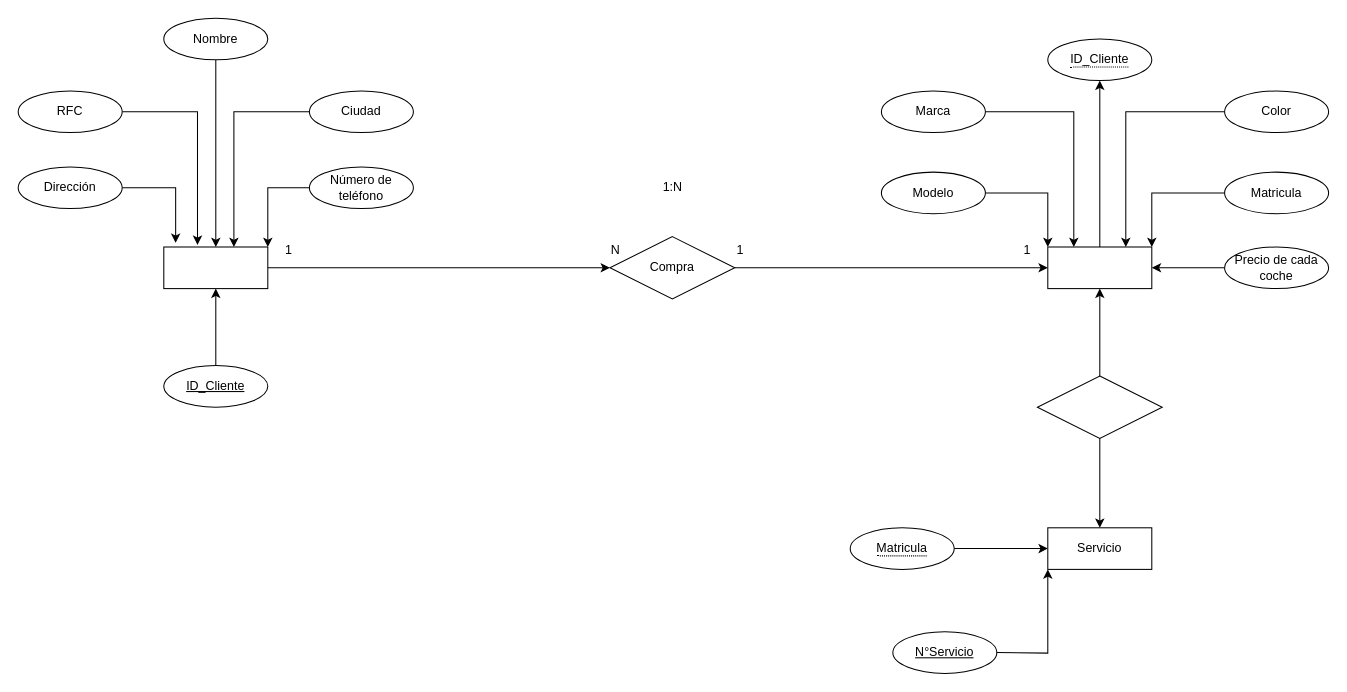
Image size: 1347x692. Some labels were removed from this diagram. The centre of each missing label's shape, as x and y in pixels:
Cliente: point 215,267
Empresa: point 1099,267
Tiene: point 1099,406
